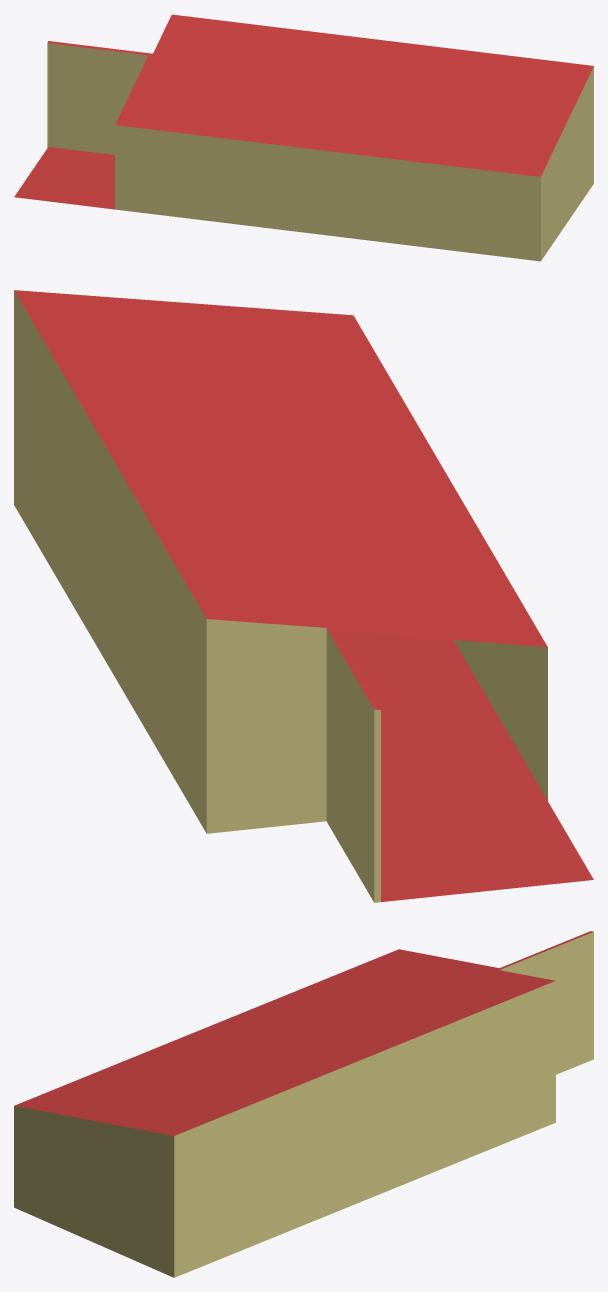
3 views of the same model, one above another, from view 1: azimuth 30°, elevation 25°; view 2: azimuth 150°, elevation 25°; view 3: azimuth 270°, elevation 25° (orthographic). The views are drawn at different scales.
Size of the model in its own units: 34.39 by 31.91 by 8.62.
